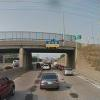Bridge: (0, 22, 82, 63)
